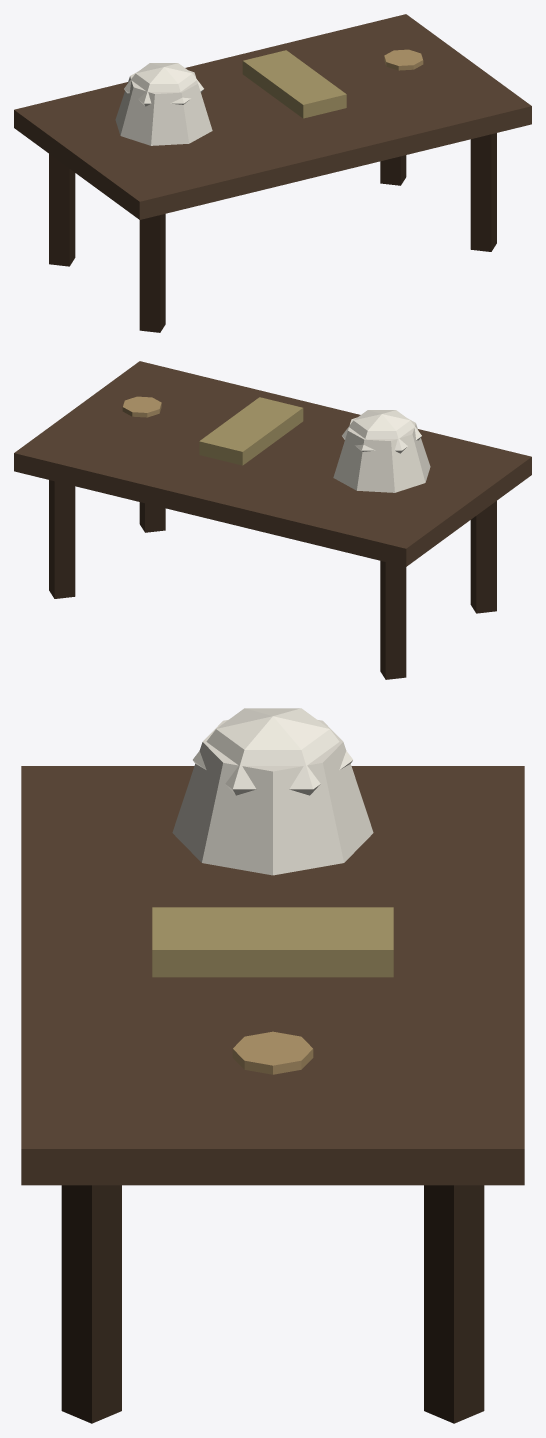
Rendered from s3_offering_set.glb.
The picture shows the model from 3 angles, top to bottom: view 1: azimuth 30°, elevation 25°; view 2: azimuth 150°, elevation 25°; view 3: azimuth 270°, elevation 25°; orthographic projection. The views are drawn at different scales.
Parts seen in each view (by area): view 1: s3_offering_set; view 2: s3_offering_set; view 3: s3_offering_set.
Part boxes in pixels (x1,y1,x2,y2): s3_offering_set: [14, 14, 531, 332]; s3_offering_set: [14, 361, 531, 679]; s3_offering_set: [21, 708, 524, 1423].
Bounding box in the file's own units: 0.9 × 0.468 × 0.5.
